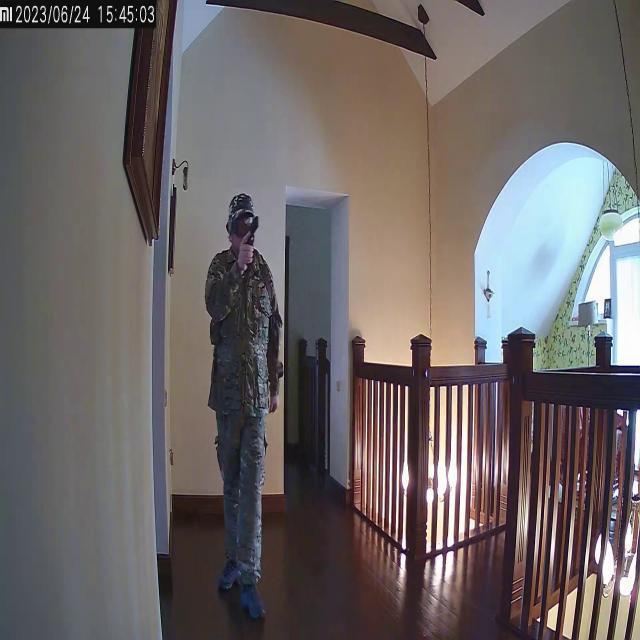pistol: (238, 214, 260, 257)
